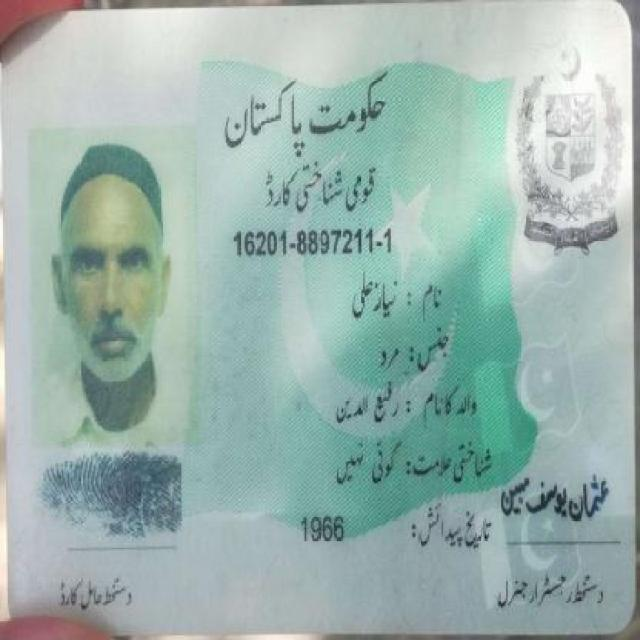Front: (9, 6, 636, 623)
